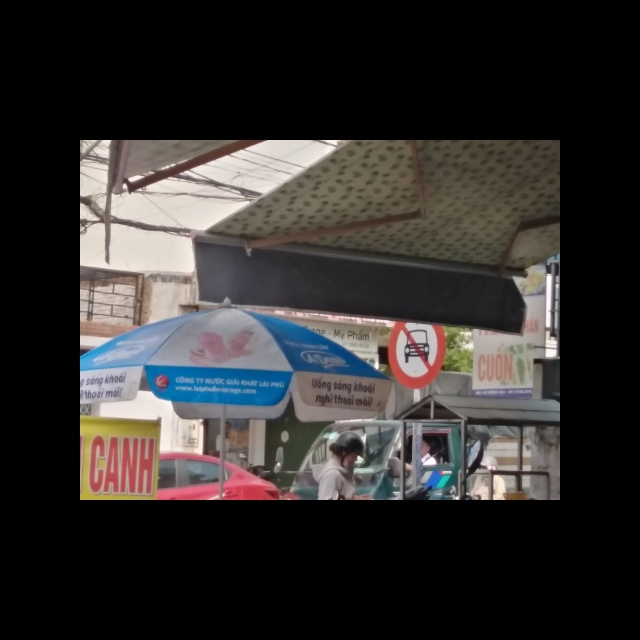Cấm xe ô tô: (383, 322, 446, 391)
